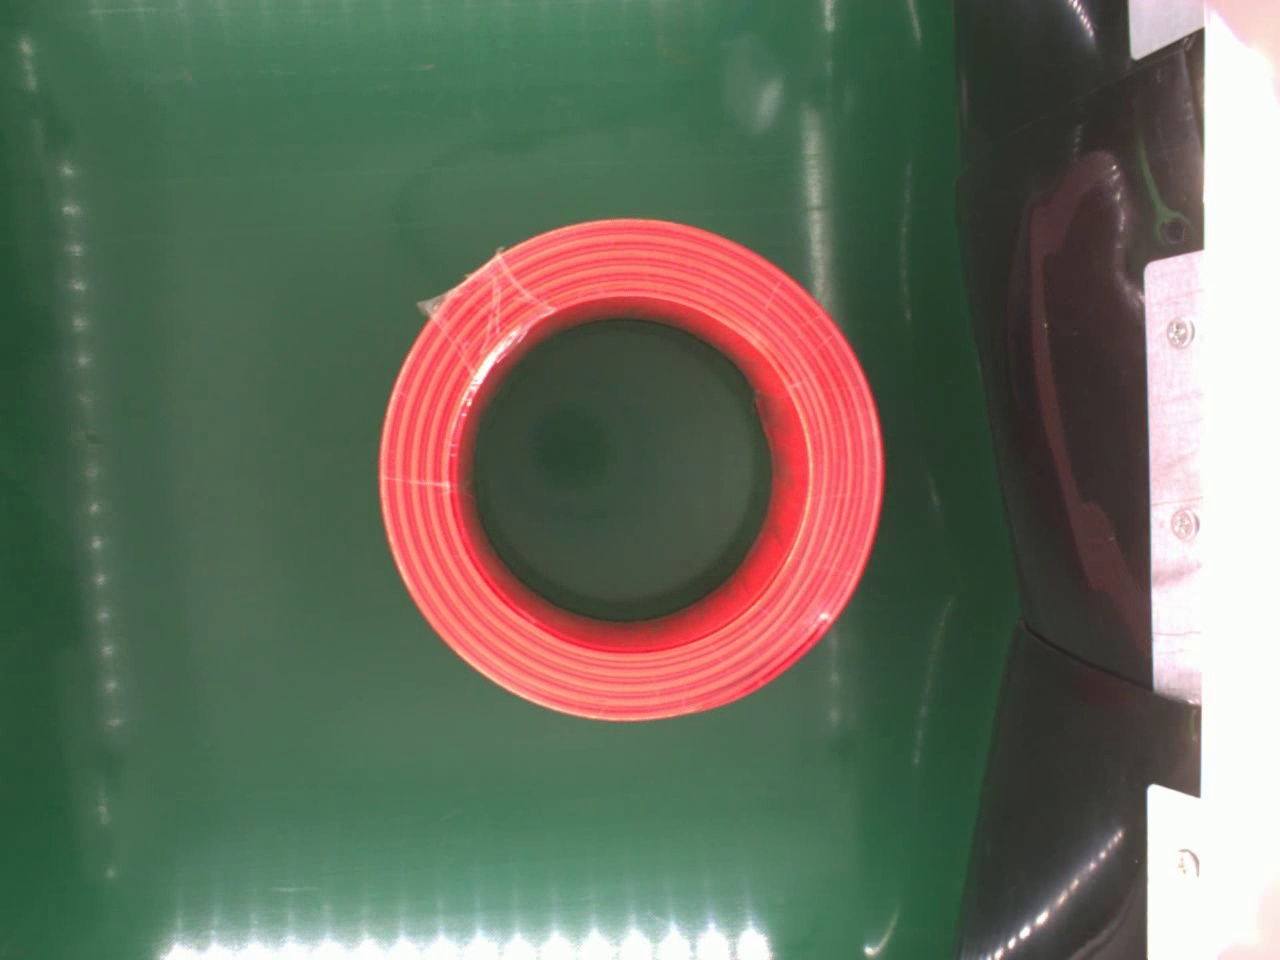red: (376, 213, 883, 723)
